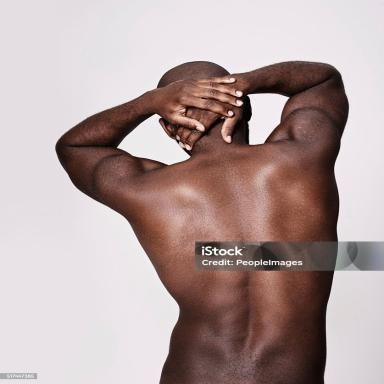normal skin: (56, 61, 348, 384)
